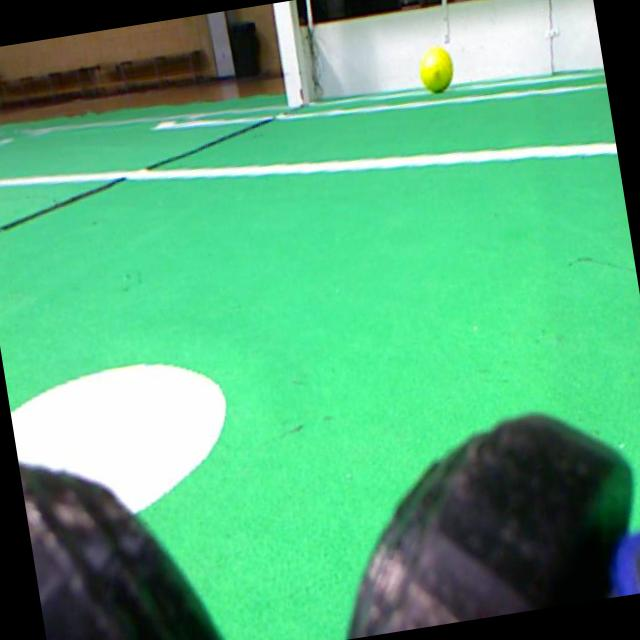ball: (419, 45, 452, 93)
goal: (273, 1, 304, 107)
